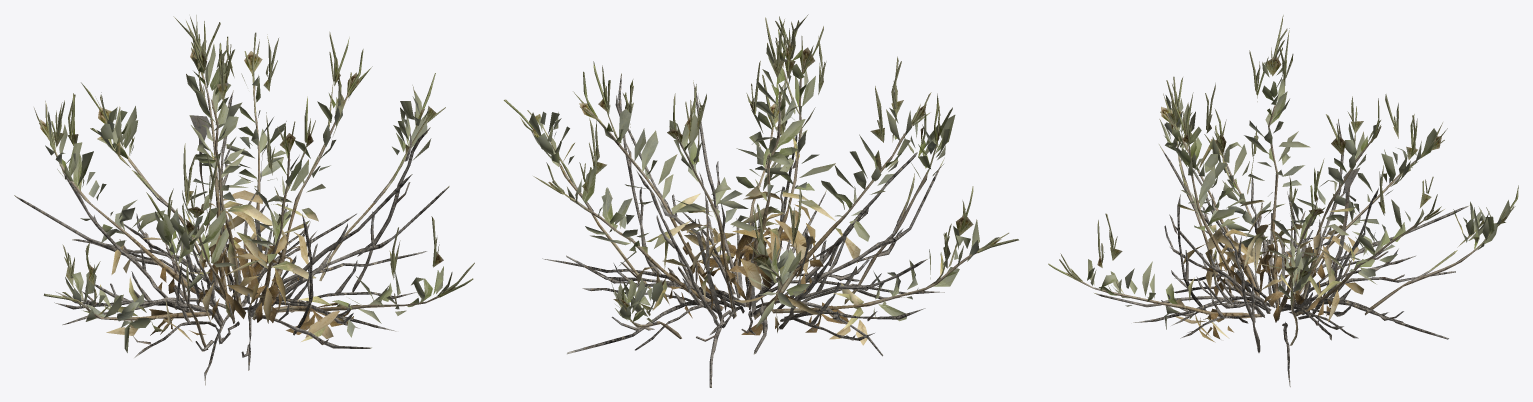
Rendered from SM_Foliage_03.fbx.
The picture shows the model from 3 angles, left to right: view 1: azimuth 30°, elevation 25°; view 2: azimuth 150°, elevation 25°; view 3: azimuth 270°, elevation 25°; orthographic projection. The views are drawn at different scales.
Parts seen in each view (by area): view 1: SM_Foliage_03_LOD0; view 2: SM_Foliage_03_LOD0; view 3: SM_Foliage_03_LOD0.
Part boxes in pixels (<box>): SM_Foliage_03_LOD0: <box>14,15,474,385</box>; SM_Foliage_03_LOD0: <box>503,14,1018,387</box>; SM_Foliage_03_LOD0: <box>1048,15,1518,387</box>.
Bounding box in the file's own units: 133 × 138 × 89.87.
1 material, 1 textured.
